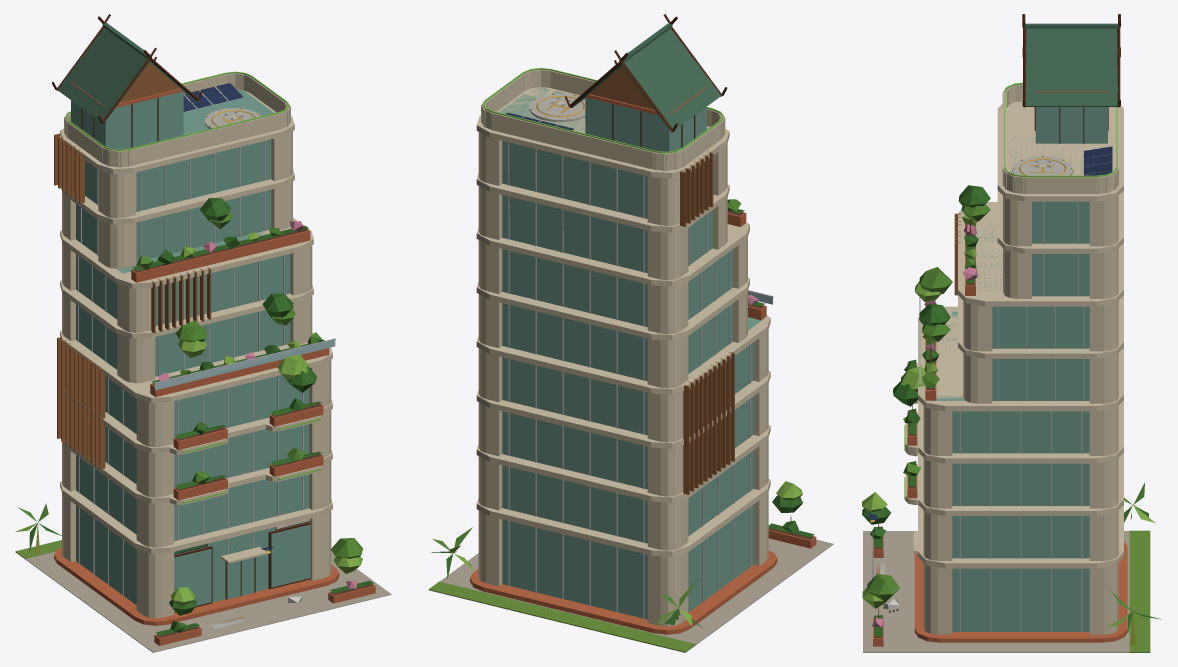
The model's file is shop_3.glb.
3 renders of one model, left to right at view 1: azimuth 30°, elevation 25°; view 2: azimuth 150°, elevation 25°; view 3: azimuth 270°, elevation 25°, orthographic. The views are drawn at different scales.
Parts seen in each view (by area): view 1: body, windows; view 2: body, windows; view 3: body, windows.
Boxes of the visible parts, left/top/right/bottom form: body: left=15, top=14, right=391, bottom=652; windows: left=65, top=71, right=320, bottom=600; body: left=428, top=14, right=833, bottom=652; windows: left=482, top=68, right=723, bottom=153; body: left=862, top=14, right=1161, bottom=652; windows: left=870, top=82, right=1117, bottom=606.
Bounding box in the file's own units: 16.93 × 33.76 × 16.71.
